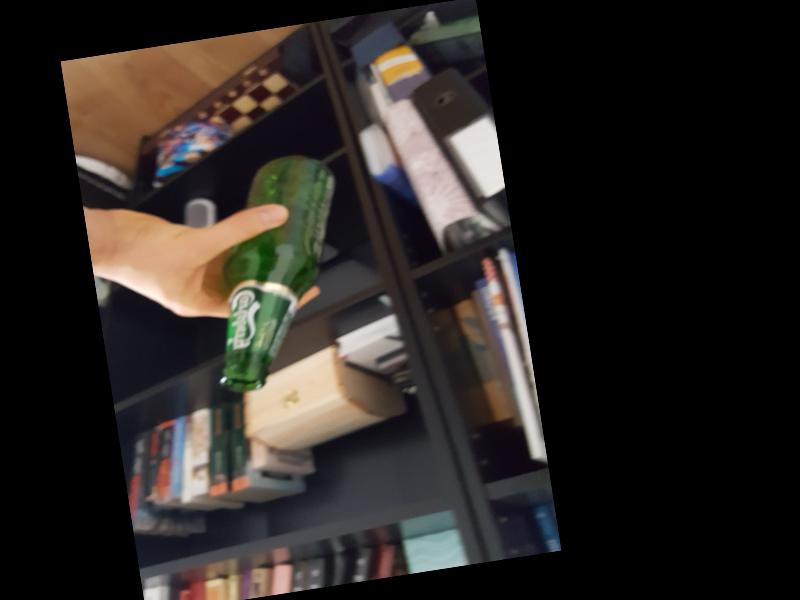Beer: (190, 149, 367, 394)
